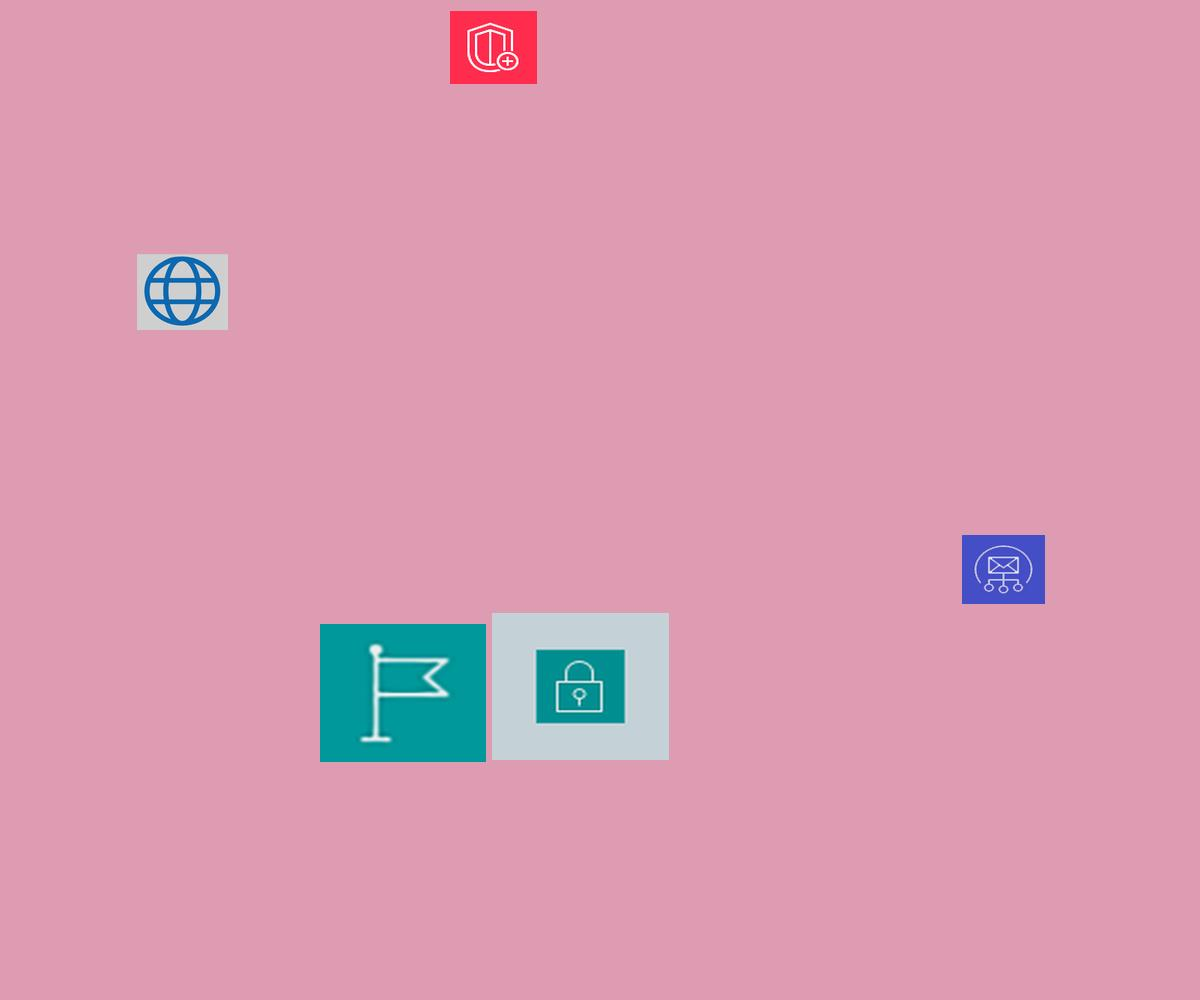AWS-Private-subnet: (492, 613, 669, 760)
AWS-Region: (320, 624, 486, 762)
AWS-Shield: (450, 11, 537, 84)
AWS-Simple-Email-Service: (962, 535, 1045, 604)
Azure_http: (137, 254, 228, 330)
